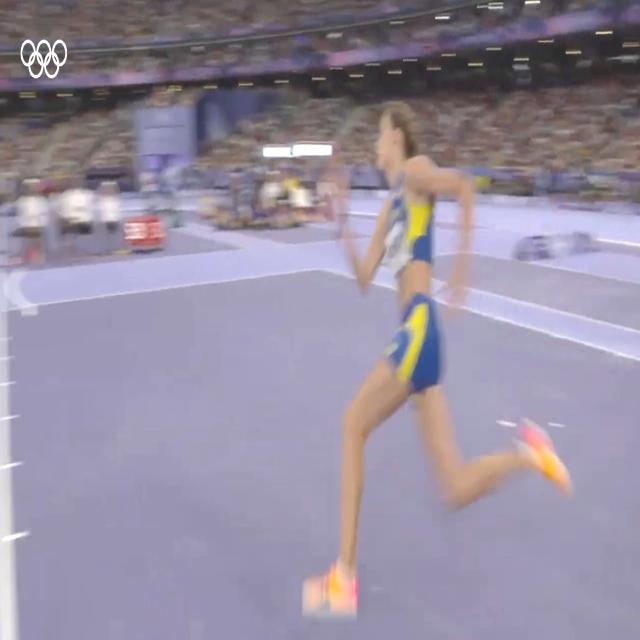run: (302, 91, 578, 626)
